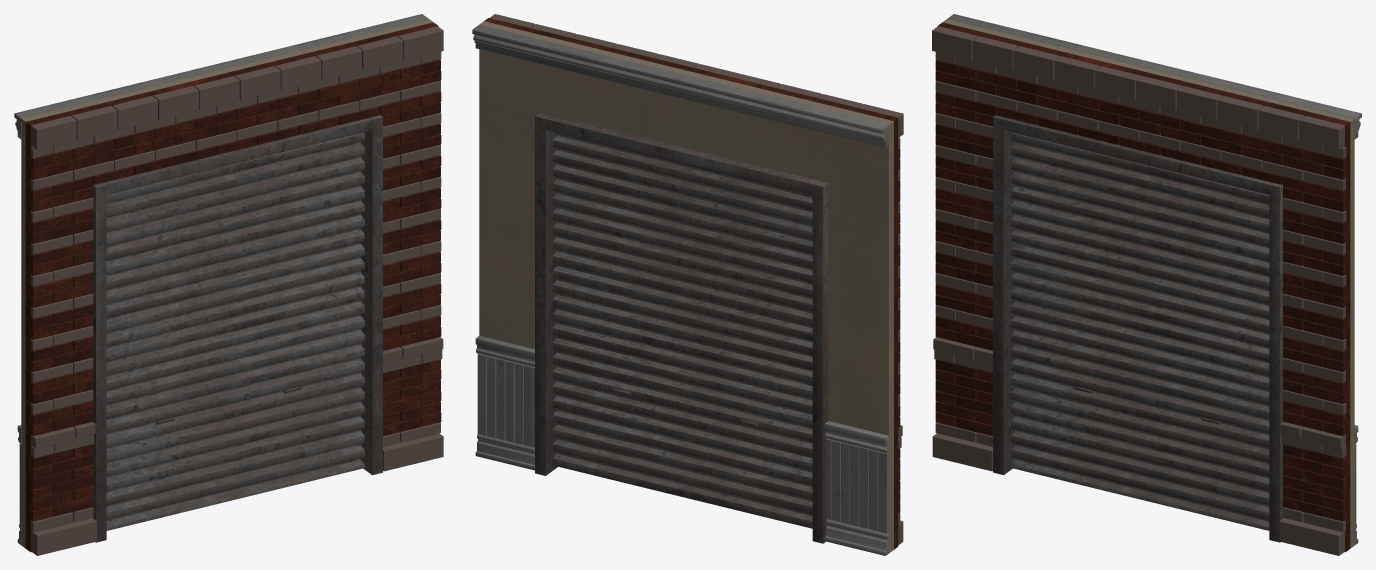
The model's file is SK4 GARAGE DOOR.fbx.
3 views of the same model, side by side, from view 1: azimuth 30°, elevation 25°; view 2: azimuth 150°, elevation 25°; view 3: azimuth 330°, elevation 25° (orthographic).
Visible parts, largest first — view 1: SK4 GARAGE DOOR.001; view 2: SK4 GARAGE DOOR.001; view 3: SK4 GARAGE DOOR.001.
Part boxes in pixels (<box>): SK4 GARAGE DOOR.001: <box>14,14,443,555</box>; SK4 GARAGE DOOR.001: <box>472,14,903,555</box>; SK4 GARAGE DOOR.001: <box>932,14,1361,555</box>.
Bounding box in the file's own units: 400 × 401 × 37.92.
